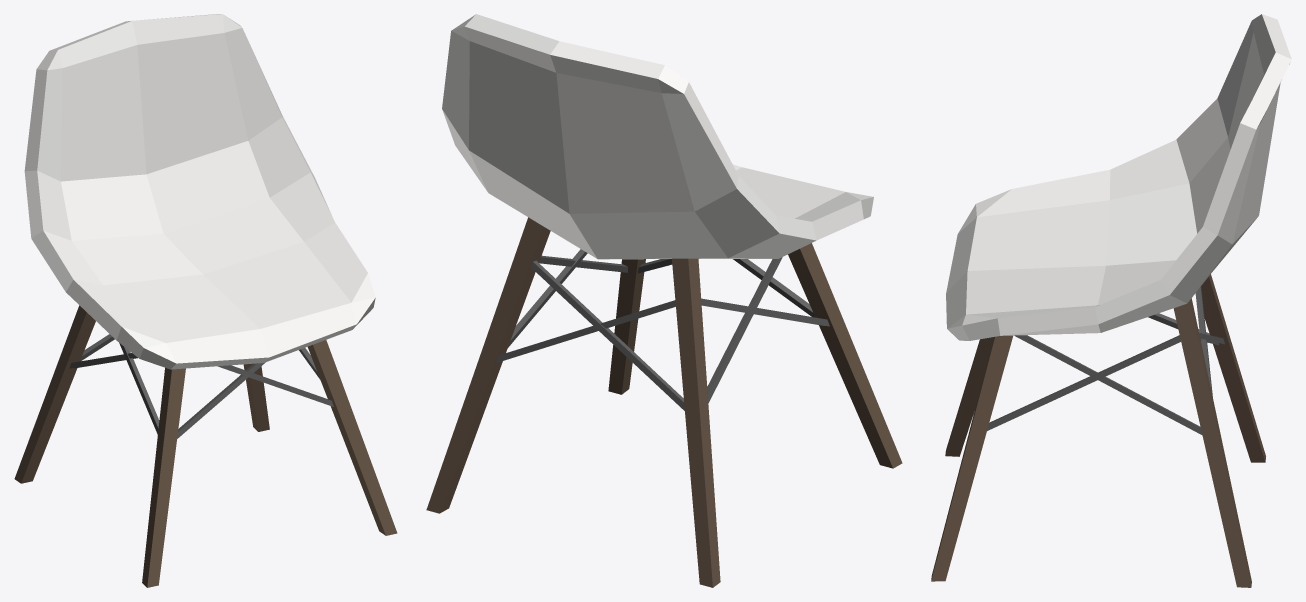
File: Chair_13.fbx
3 views of the same model, side by side, from view 1: azimuth 30°, elevation 25°; view 2: azimuth 150°, elevation 25°; view 3: azimuth 270°, elevation 25° (orthographic). The views are drawn at different scales.
Visible parts, largest first — view 1: Chair_13; view 2: Chair_13; view 3: Chair_13.
Part boxes in pixels (box(x1,y1,x2,y2)): Chair_13: box(14, 14, 397, 587); Chair_13: box(426, 14, 902, 587); Chair_13: box(931, 14, 1291, 587).
Size of the model in its own units: 77.58 by 79.48 by 114.
